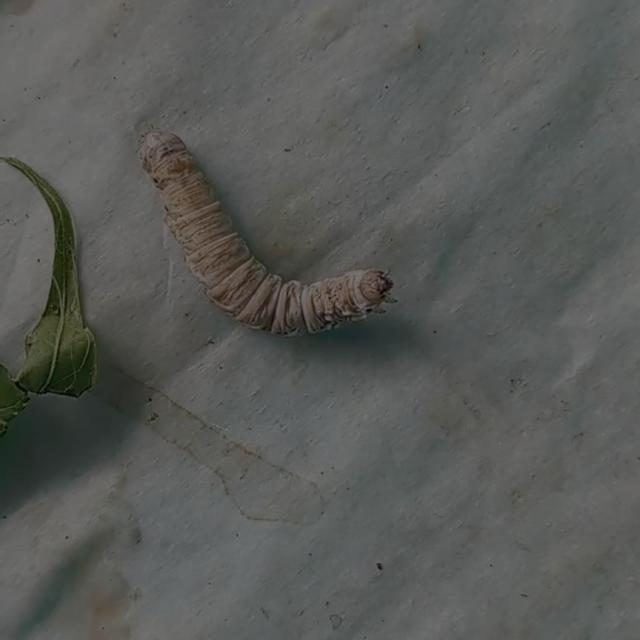Grasserie: (132, 120, 408, 357)
